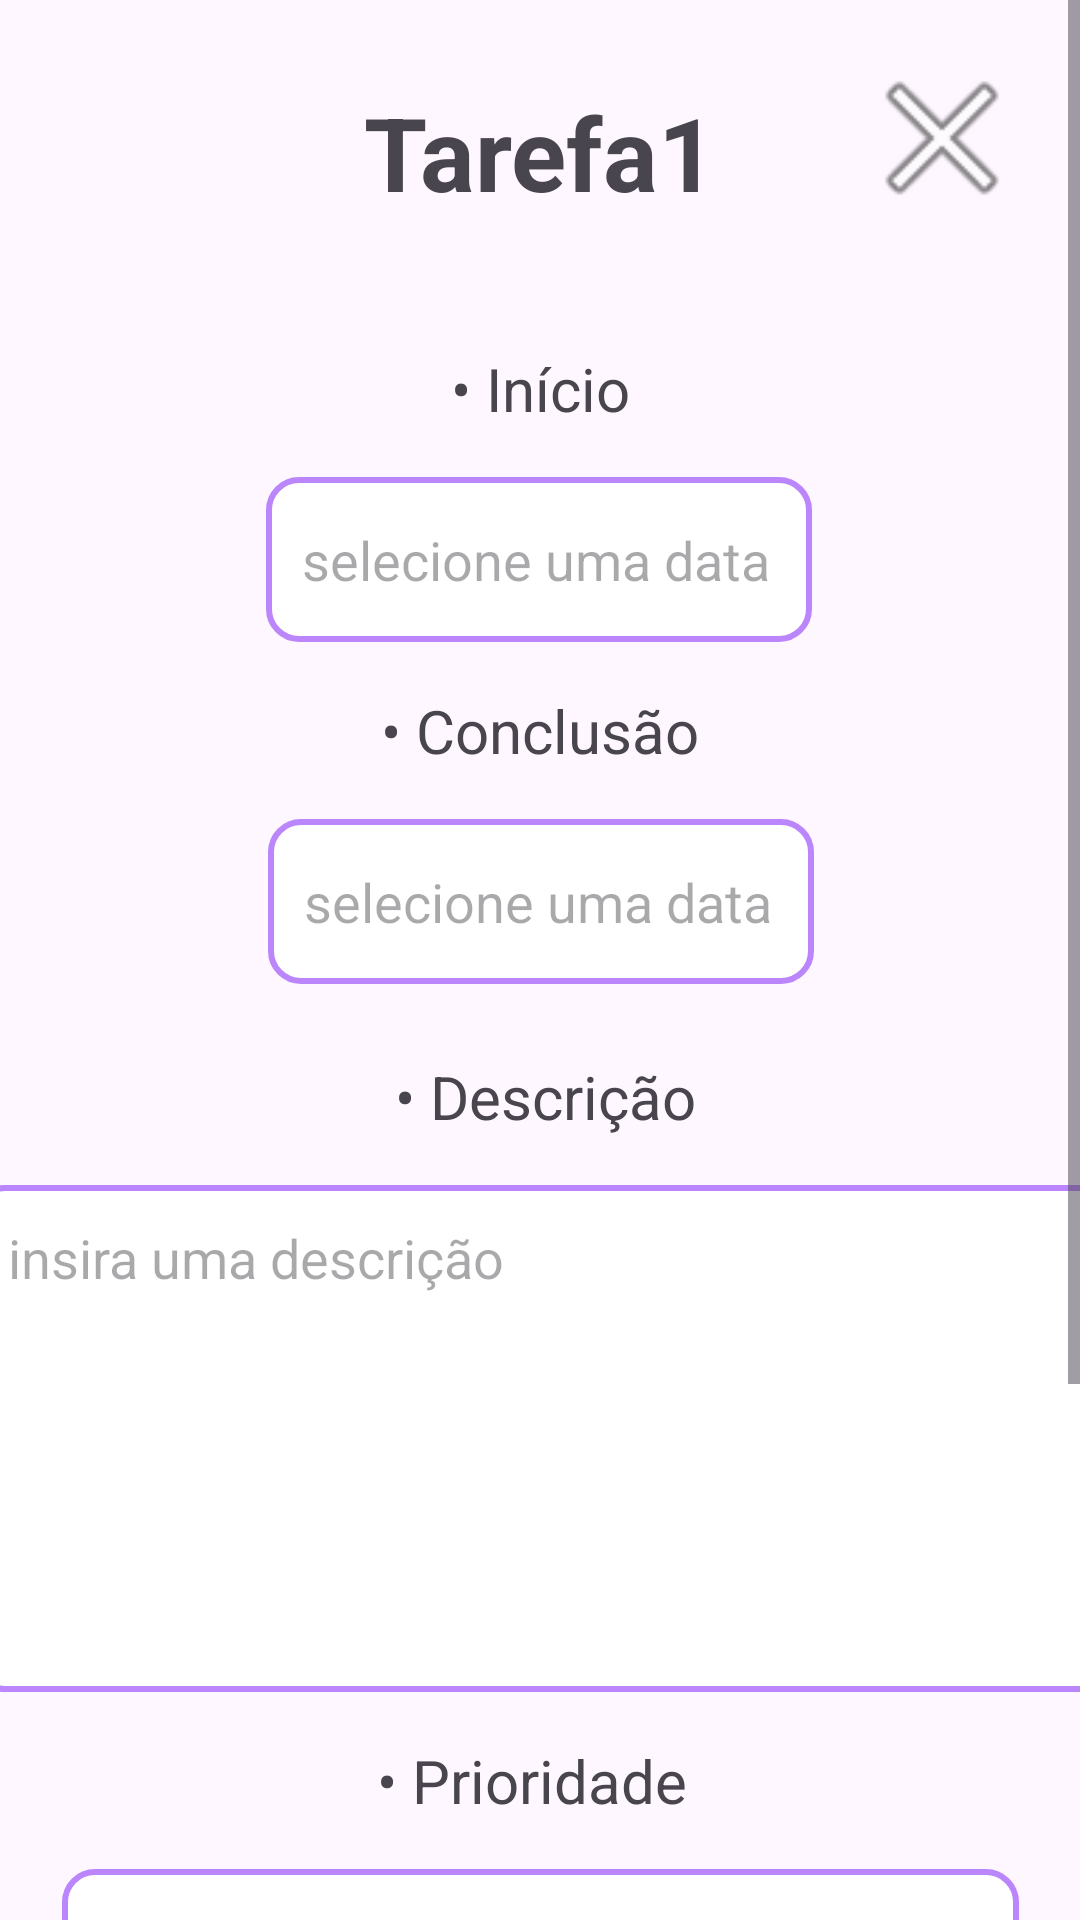

Locate icon controls on the screen. Image size 1080x1920, boxes as (x1, y1, x2, y2).
close clear cancel: (885, 81, 999, 195)
